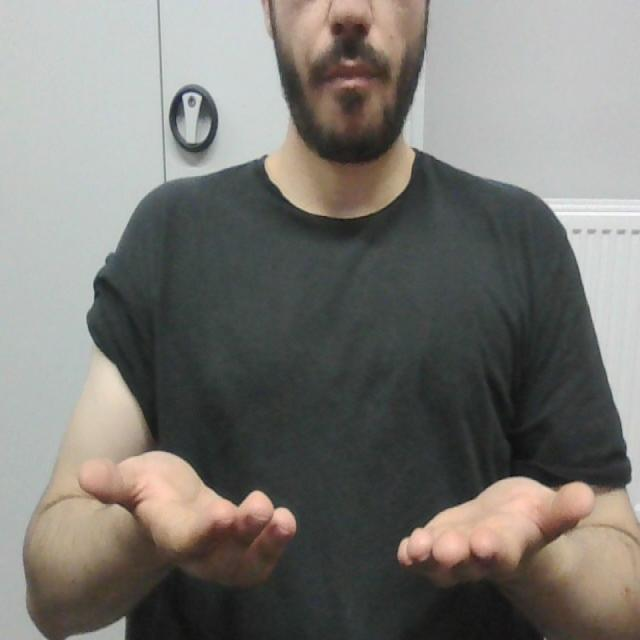Evet: (73, 443, 596, 597)
